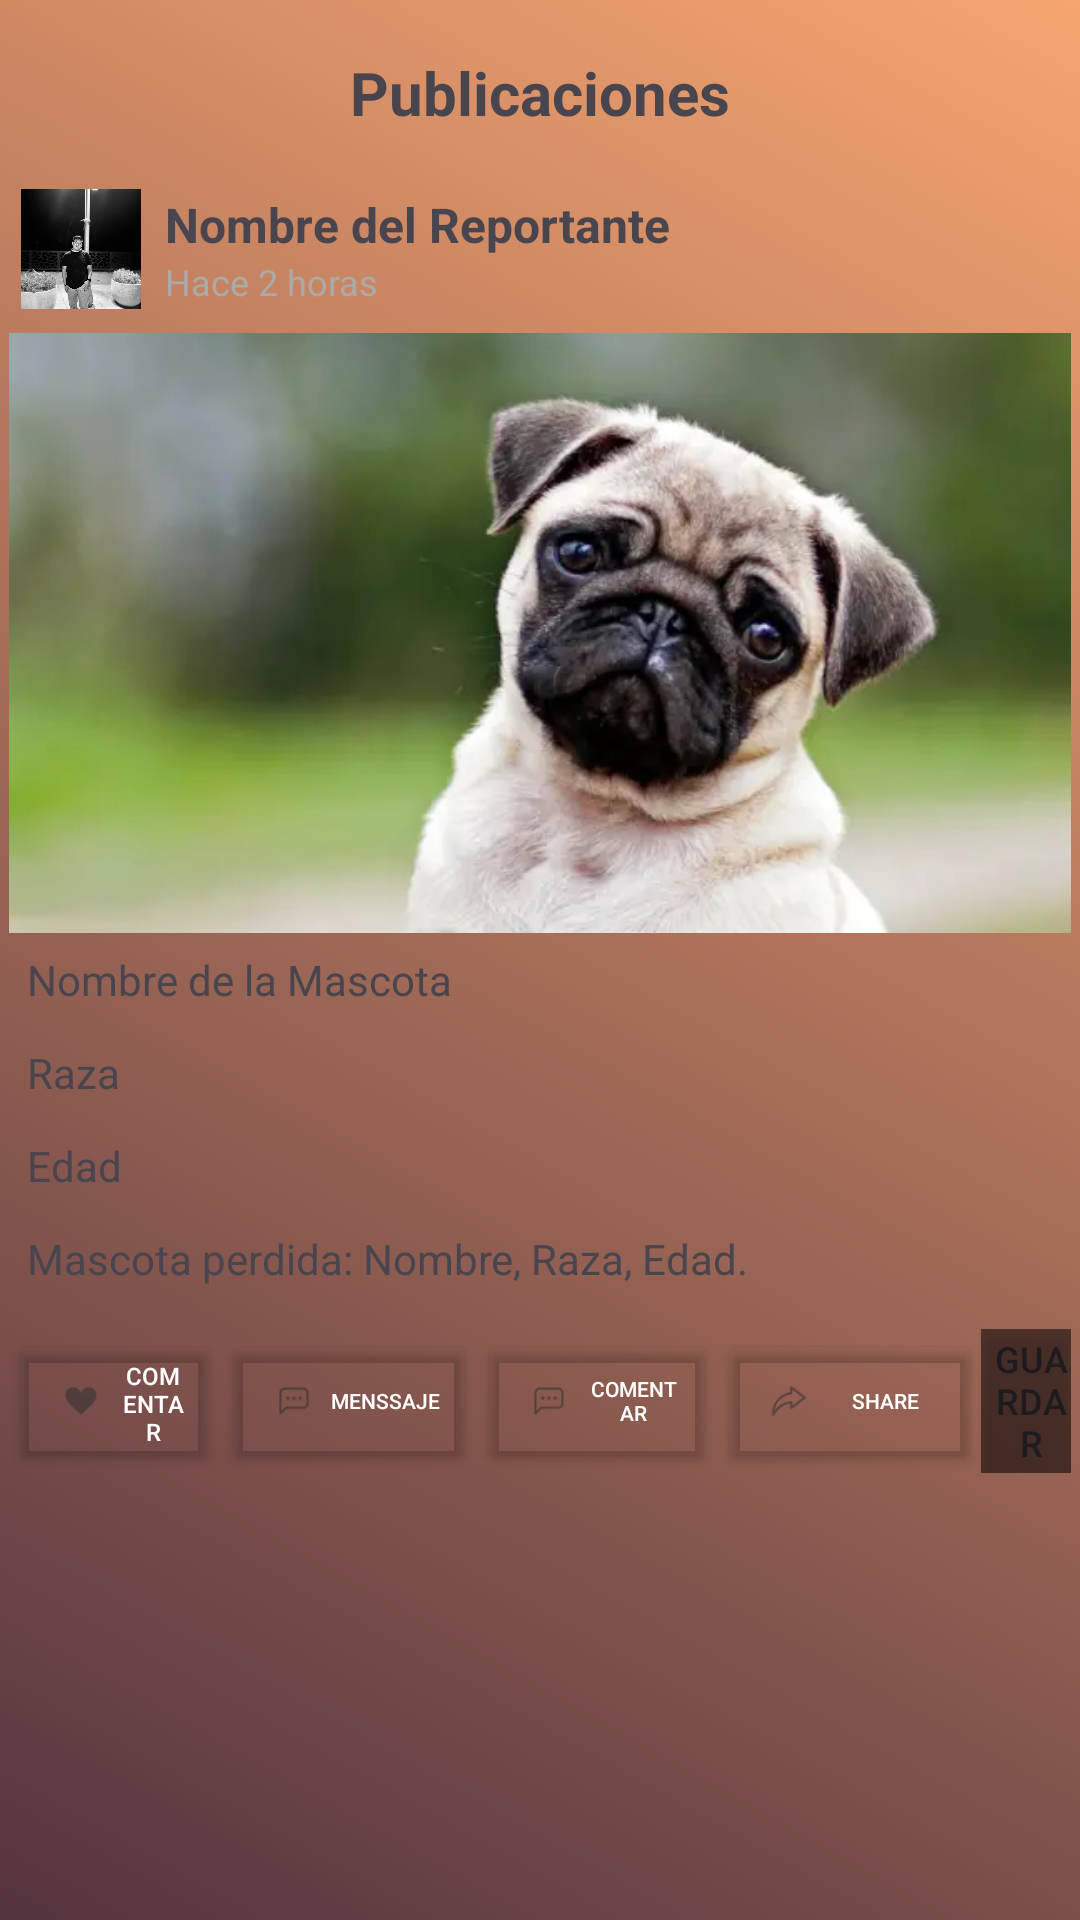

Icons on this 1080 × 1920 Android screen, each with its box as (x1, y1, x2, y2):
profile: (21, 189, 141, 309)
